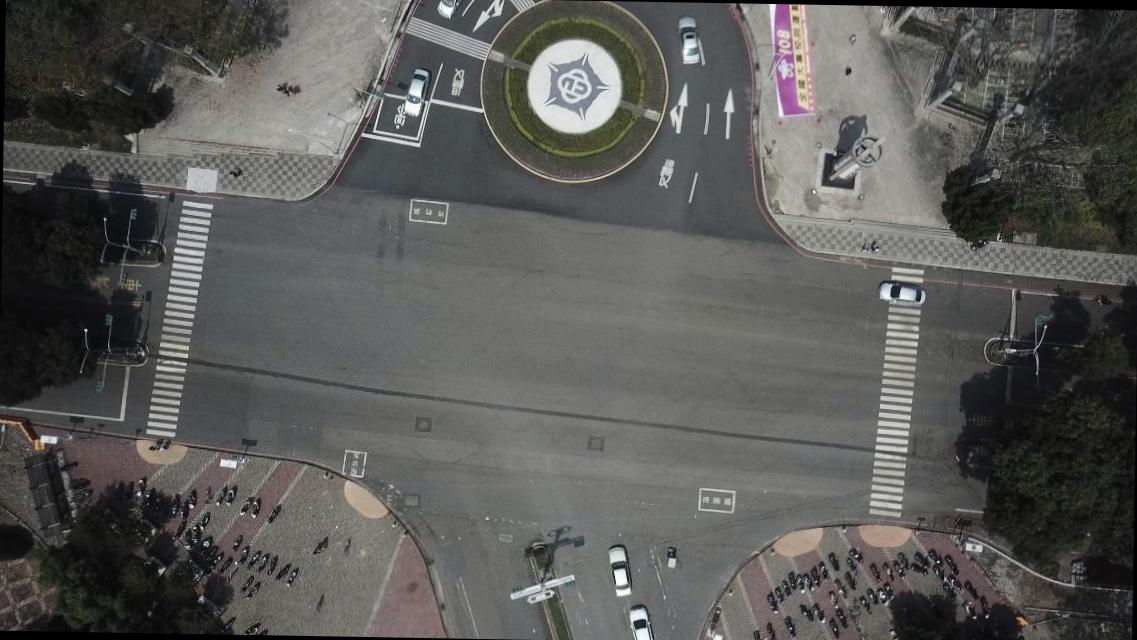vehicle: (404, 68, 430, 116), (607, 547, 633, 595), (876, 280, 924, 304), (678, 17, 700, 62), (627, 604, 655, 639), (437, 0, 461, 22)
